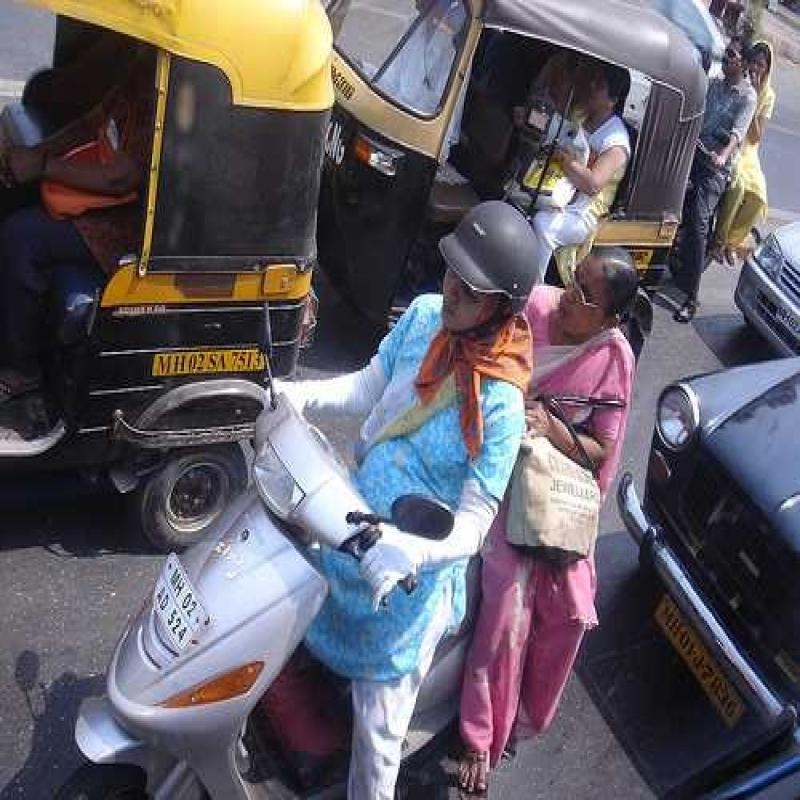bike: (112, 339, 413, 800)
